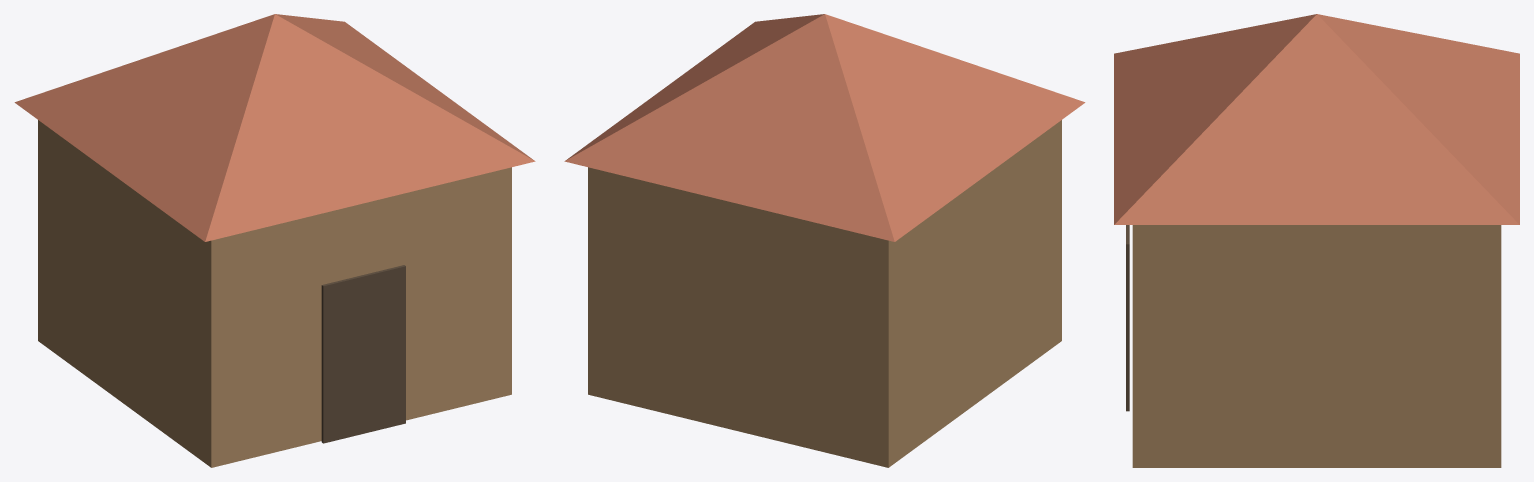
The model's file is shed.glb.
3 views of the same model, side by side, from view 1: azimuth 30°, elevation 25°; view 2: azimuth 150°, elevation 25°; view 3: azimuth 270°, elevation 25° (orthographic). The views are drawn at different scales.
Parts seen in each view (by area): view 1: ShedBody, Roof, Door; view 2: ShedBody, Roof; view 3: ShedBody, Roof, Door.
Boxes of the visible parts, left/top/right/bottom form: ShedBody: left=38, top=120, right=511, bottom=467; Roof: left=14, top=14, right=535, bottom=241; Door: left=321, top=265, right=405, bottom=443; ShedBody: left=588, top=120, right=1061, bottom=467; Roof: left=564, top=14, right=1085, bottom=241; ShedBody: left=1132, top=225, right=1501, bottom=467; Roof: left=1114, top=14, right=1519, bottom=224; Door: left=1126, top=225, right=1129, bottom=411.
Bounding box in the file's own units: 4.4 × 4.5 × 4.4.
